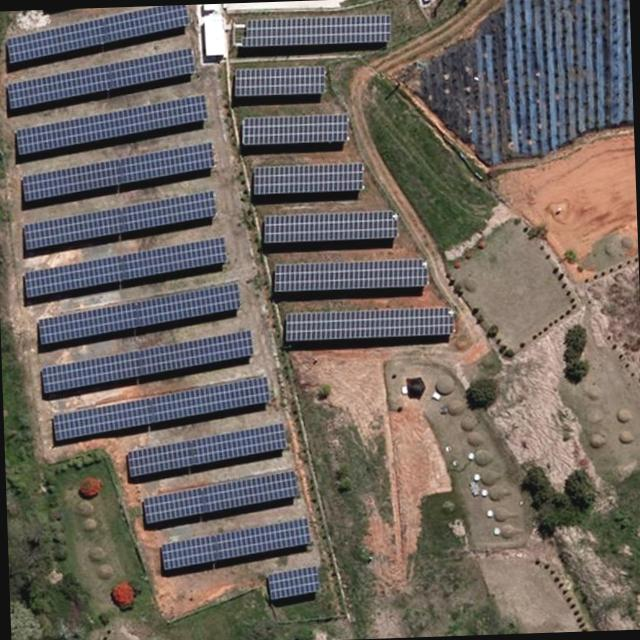solar: (48, 374, 271, 444), (38, 329, 258, 397), (34, 282, 244, 348), (18, 236, 228, 300), (18, 140, 216, 206), (2, 47, 198, 112), (12, 96, 209, 158), (18, 192, 220, 252), (2, 8, 191, 66), (124, 420, 288, 480), (138, 468, 299, 528), (156, 516, 314, 574), (282, 304, 456, 344), (269, 256, 430, 295), (240, 12, 392, 48), (260, 208, 400, 246), (248, 160, 364, 198), (238, 112, 350, 148), (232, 64, 326, 99), (264, 564, 322, 605)
